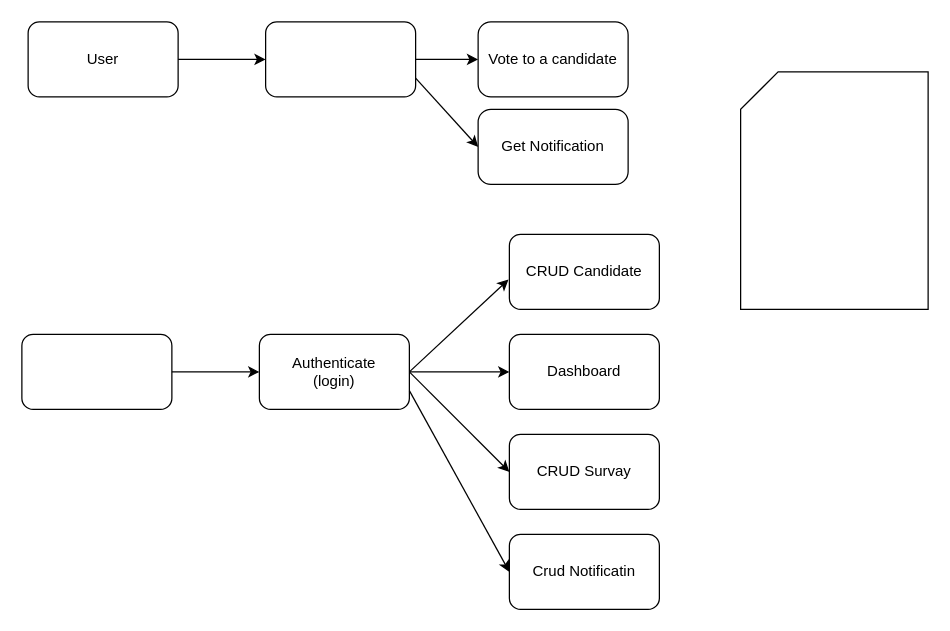
Image size: 950x631. Some labels were removed from this diagram. Here are the shapes that lost their labels. From the top down, the centre of each, then its label:
At (340,59): "Authenticate (register/login)".
At (96,371): "Admin".
